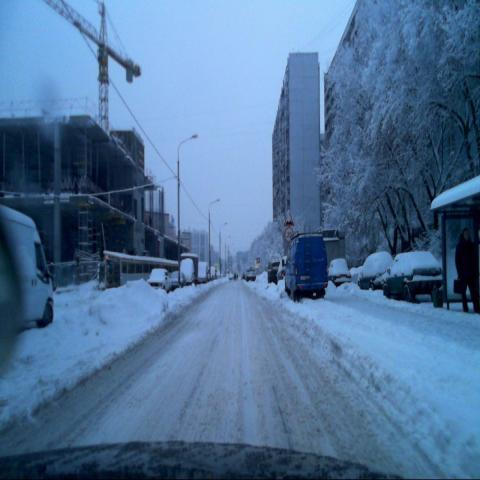1_16: (282, 207, 296, 227)
